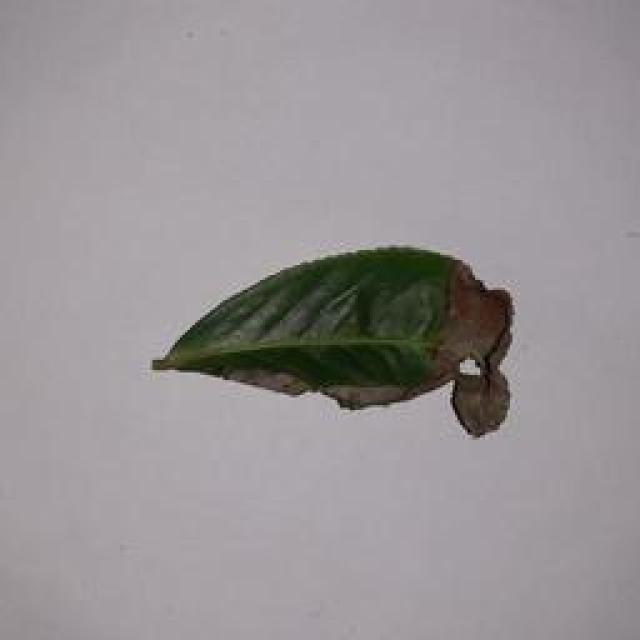Brown Blight: (149, 231, 533, 446)
